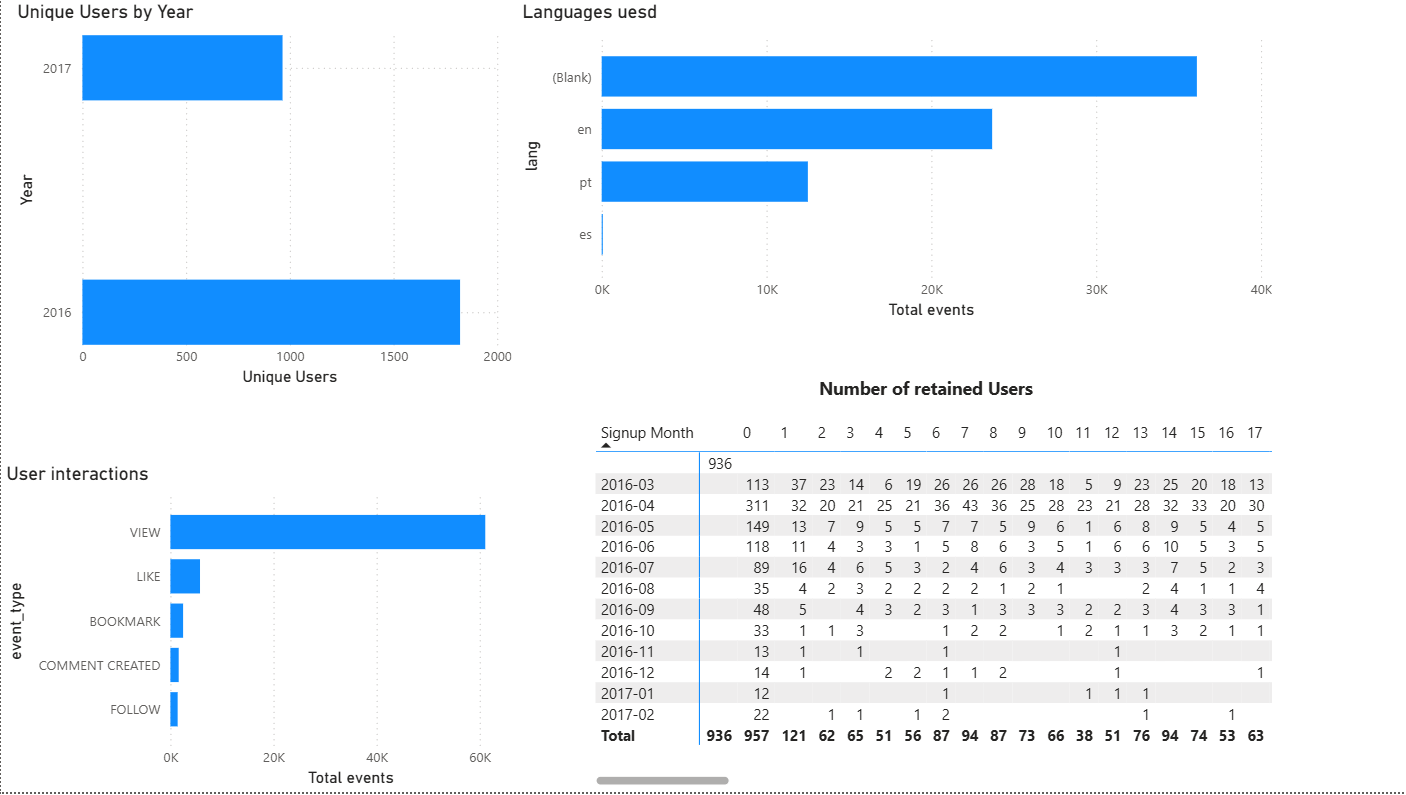

This screenshot's page, from the dashboard's own definition file:
{"tool":"powerbi","page":{"name":"Page 1","canvas":[1280,720],"ordinal":0},"visuals":[{"type":"clusteredBarChart","fields":{"Category":["public dim_dates.date.Variation.Date Hierarchy.Year","public dim_dates.date.Variation.Date Hierarchy.Quarter","public dim_dates.date.Variation.Date Hierarchy.Month","public dim_dates.date.Variation.Date Hierarchy.Day"],"Y":["public fact_events.Unique Users"]},"box":[9.7,0,356,225.7],"z":0},{"type":"clusteredBarChart","title":"User interactions","fields":{"Category":["public fact_events.event_type"],"Y":["public fact_events.Total events"]},"box":[0,420.2,497,299.6],"z":1000},{"type":"clusteredBarChart","title":"Languages uesd","fields":{"Category":["public dim_content.lang"],"Y":["public fact_events.Total events"]},"box":[469,0,691.4,294],"z":2000},{"type":"pivotTable","fields":{"Rows":["public dim_users.Signup Month"],"Columns":["public fact_events.Days since signup"],"Values":["public dim_users.Retained Users"]},"box":[535.3,378.4,625,341.4],"z":3000},{"type":"textbox","box":[662.9,346.6,356,26.7],"z":3001}]}

Visuals, with their boxes in screenshot pixels (x1, y1, x2, y2), scaled from the page's 1280x720 canvas onto the 1406x795 screenshot:
clusteredBarChart - public dim_dates.date.Variation.Date Hierarchy.Year x public dim_dates.date.Variation.Date Hierarchy.Quarter: detection(11, 0, 402, 249)
"User interactions" clusteredBarChart: detection(0, 464, 546, 794)
"Languages uesd" clusteredBarChart: detection(515, 0, 1275, 325)
pivotTable - public dim_users.Signup Month x public fact_events.Days since signup: detection(588, 418, 1275, 794)
textbox: detection(728, 383, 1119, 412)
